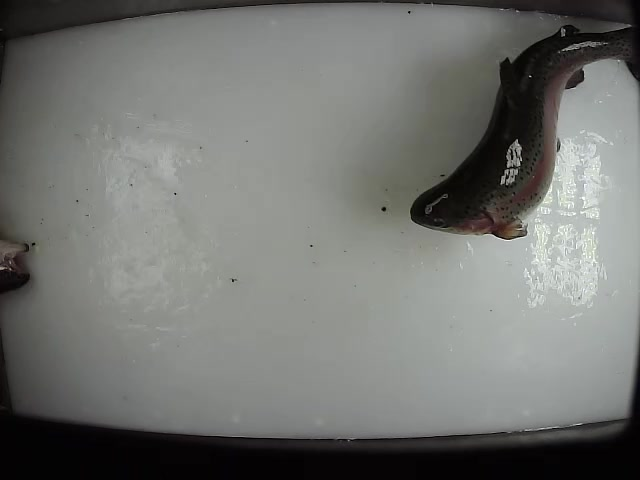Fish: (411, 24, 640, 240)
